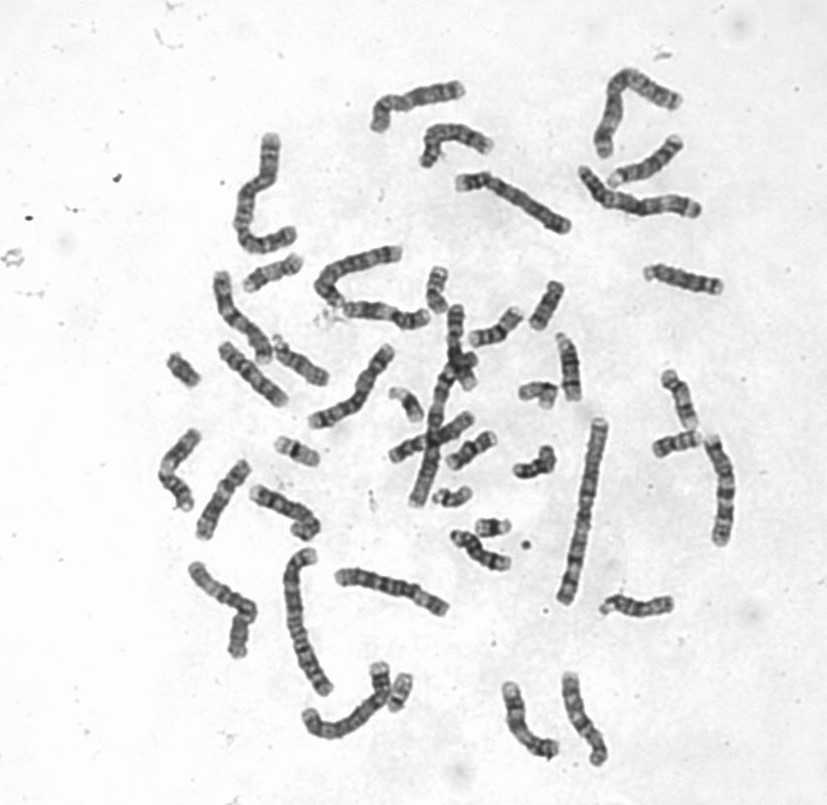chromosomes: (551, 413, 614, 613), (404, 350, 480, 515), (280, 541, 343, 707), (447, 169, 581, 246), (294, 657, 392, 749), (233, 132, 299, 265), (572, 161, 706, 226), (304, 342, 397, 434), (593, 67, 686, 158), (183, 555, 259, 663), (332, 562, 455, 623), (206, 265, 277, 369), (361, 73, 477, 135), (492, 677, 564, 769), (209, 336, 295, 410), (314, 241, 407, 309), (555, 667, 613, 773), (191, 458, 259, 543), (385, 407, 478, 465), (605, 132, 686, 194), (245, 484, 325, 546), (698, 429, 737, 555), (413, 121, 501, 173), (161, 424, 208, 521), (270, 333, 338, 393), (239, 246, 313, 298), (637, 259, 729, 300), (447, 524, 515, 576), (444, 300, 481, 395), (551, 327, 594, 406), (339, 299, 431, 335), (658, 363, 705, 432), (467, 299, 526, 352), (442, 426, 502, 473), (527, 276, 569, 336), (597, 592, 678, 623), (271, 434, 329, 473), (646, 426, 707, 462), (512, 442, 562, 483), (383, 383, 428, 426), (380, 672, 421, 719), (164, 348, 203, 392), (423, 260, 452, 316), (515, 377, 561, 411), (431, 484, 475, 511), (471, 516, 513, 541)
